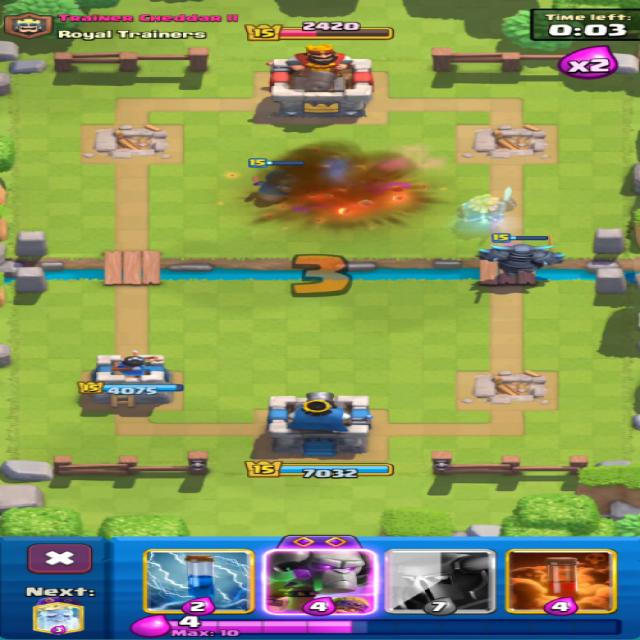Enemy-KingTower-Activated: (270, 43, 374, 118)
Player-Bandit: (244, 169, 296, 208)
Player-KingTower-Activated: (266, 392, 372, 456)
Player-PEKKA: (478, 243, 564, 279)
Player-PrincessTower: (78, 351, 183, 407)
Player-RoyalGhost: (459, 190, 516, 226)
